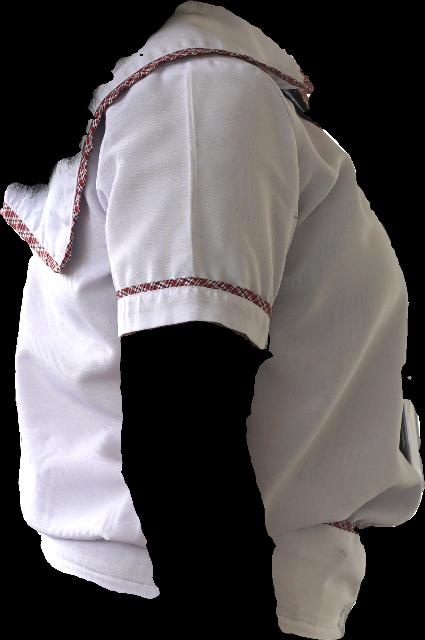pologirl: (0, 1, 424, 639)
